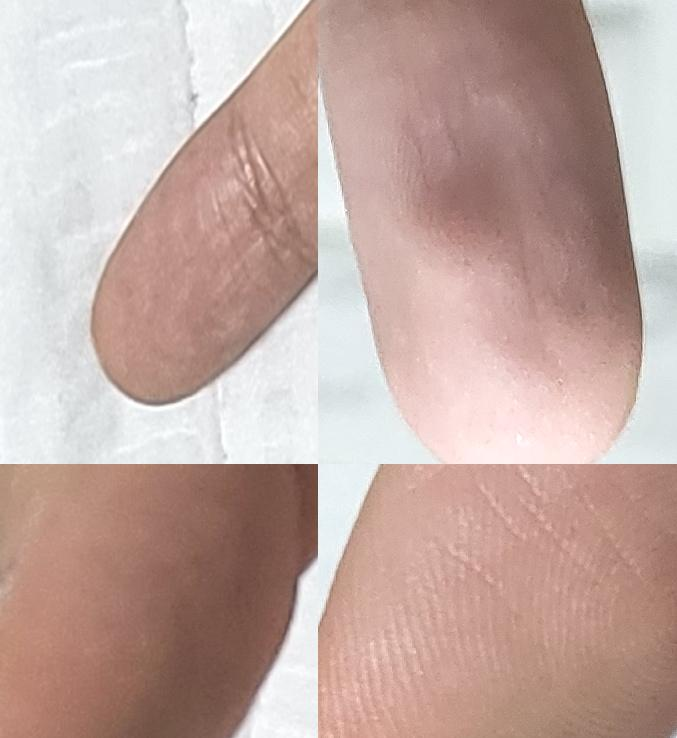Fingerprints: (318, 0, 644, 464), (318, 464, 677, 738), (0, 464, 299, 738), (91, 93, 312, 406)
